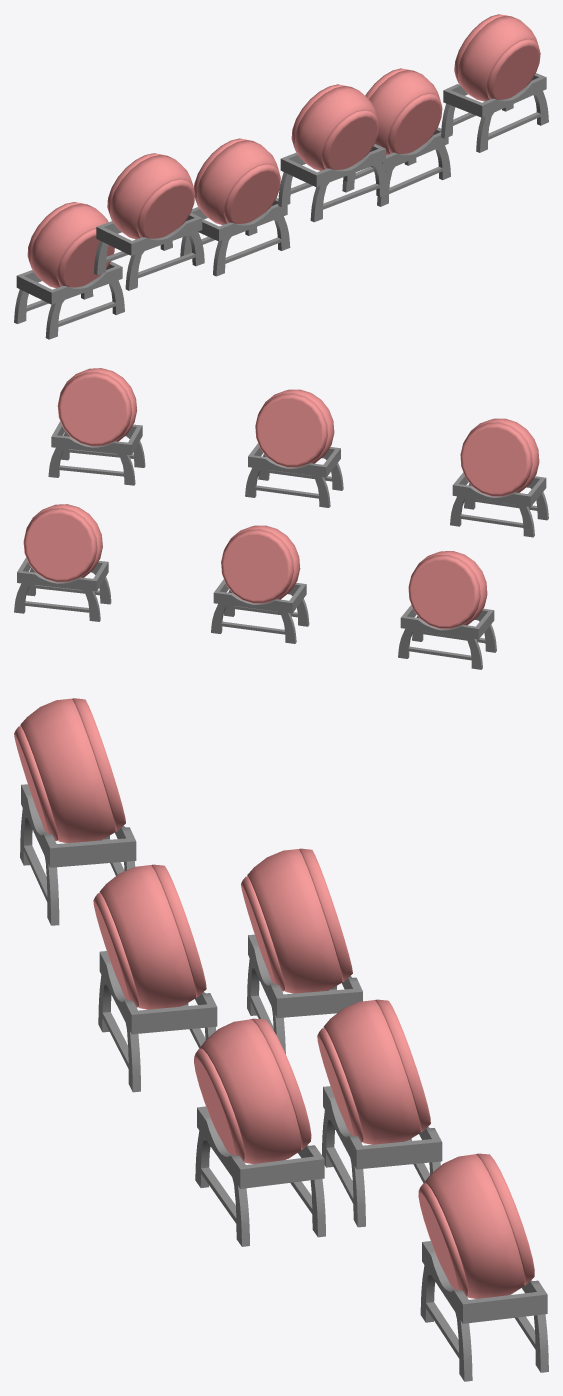
Rendered from CHN_OOB_Drum02_CMB.gltf.
3 views of the same model, one above another, from view 1: azimuth 30°, elevation 25°; view 2: azimuth 150°, elevation 25°; view 3: azimuth 270°, elevation 25° (orthographic). The views are drawn at different scales.
Visible parts, largest first — view 1: CHN_OOB_Drum02_CMB; view 2: CHN_OOB_Drum02_CMB; view 3: CHN_OOB_Drum02_CMB.
Part boxes in pixels (box(x1,y1,x2,y2)): CHN_OOB_Drum02_CMB: box(14, 14, 548, 339); CHN_OOB_Drum02_CMB: box(14, 368, 548, 669); CHN_OOB_Drum02_CMB: box(14, 698, 548, 1381).
Bounding box in the file's own units: 27.35 × 10.8 × 15.28.
